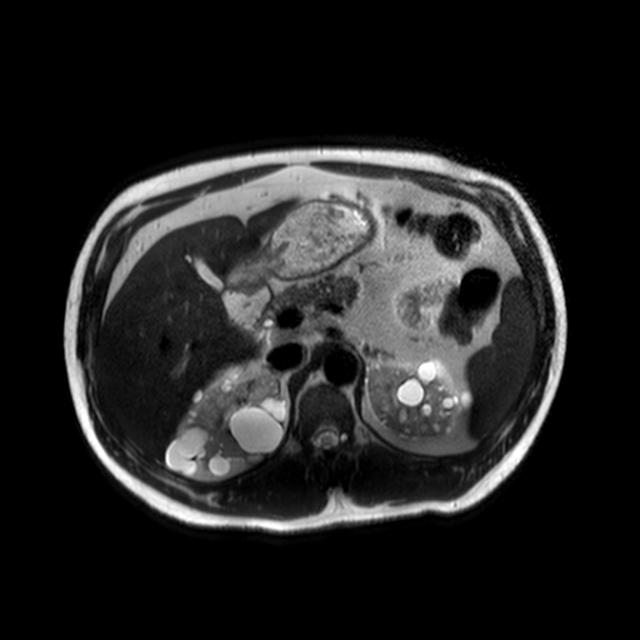sag: (166, 361, 289, 482)
sol: (368, 362, 474, 443)
